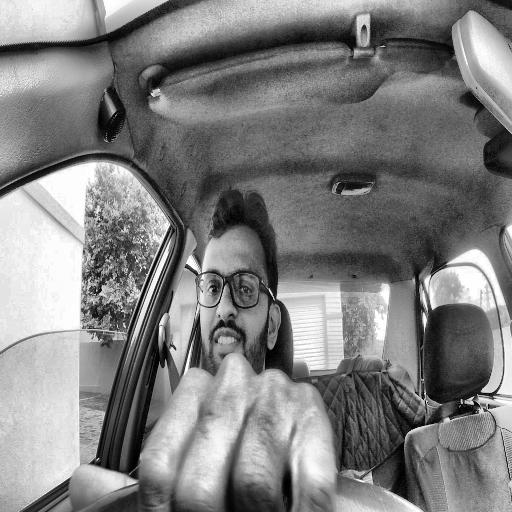awake: (195, 188, 281, 396)
